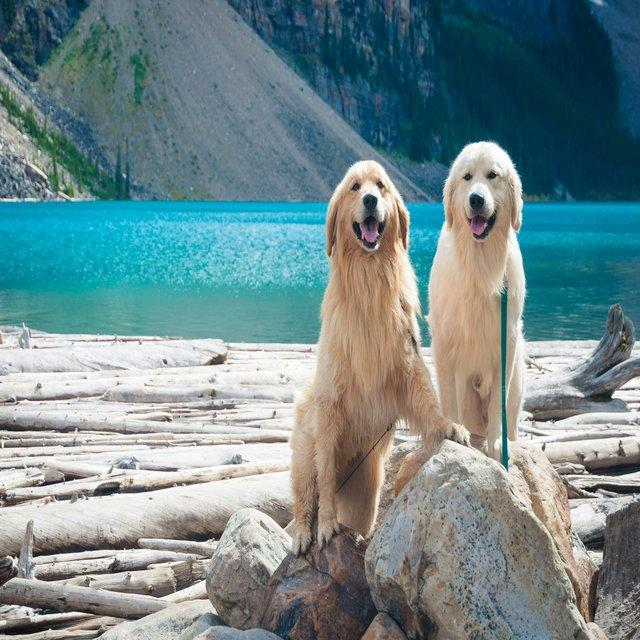retriever: (284, 158, 471, 558), (426, 139, 527, 467)
